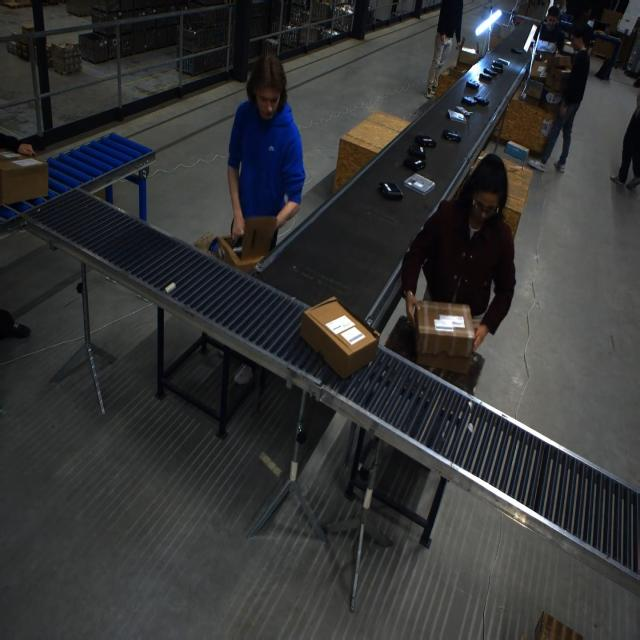box: (299, 297, 374, 378), (413, 301, 474, 366), (197, 219, 285, 263), (0, 146, 48, 207), (550, 53, 572, 71)
product: (403, 174, 434, 196), (377, 182, 402, 200), (403, 157, 426, 171), (408, 144, 428, 160), (414, 134, 435, 148), (447, 109, 466, 122), (442, 129, 461, 142), (453, 105, 473, 117), (461, 95, 478, 105), (473, 96, 489, 106), (494, 57, 509, 66), (491, 63, 504, 73), (465, 79, 479, 88), (482, 68, 497, 76), (479, 72, 493, 80), (510, 47, 522, 54)
